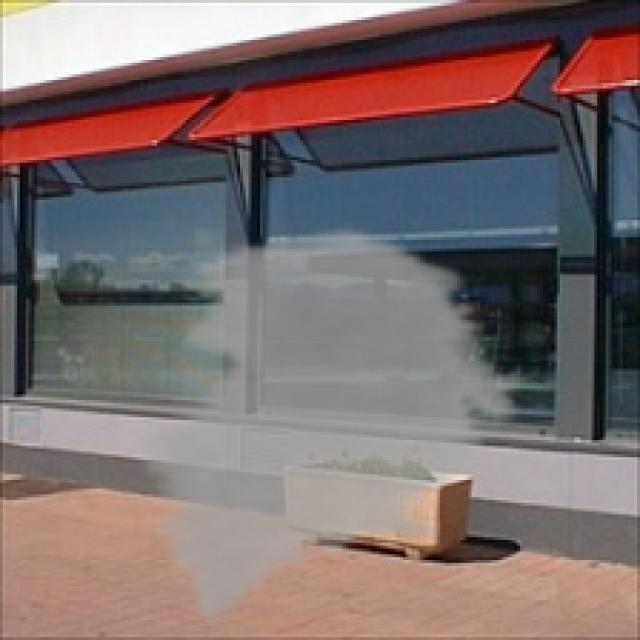smoke: (126, 223, 531, 626)
